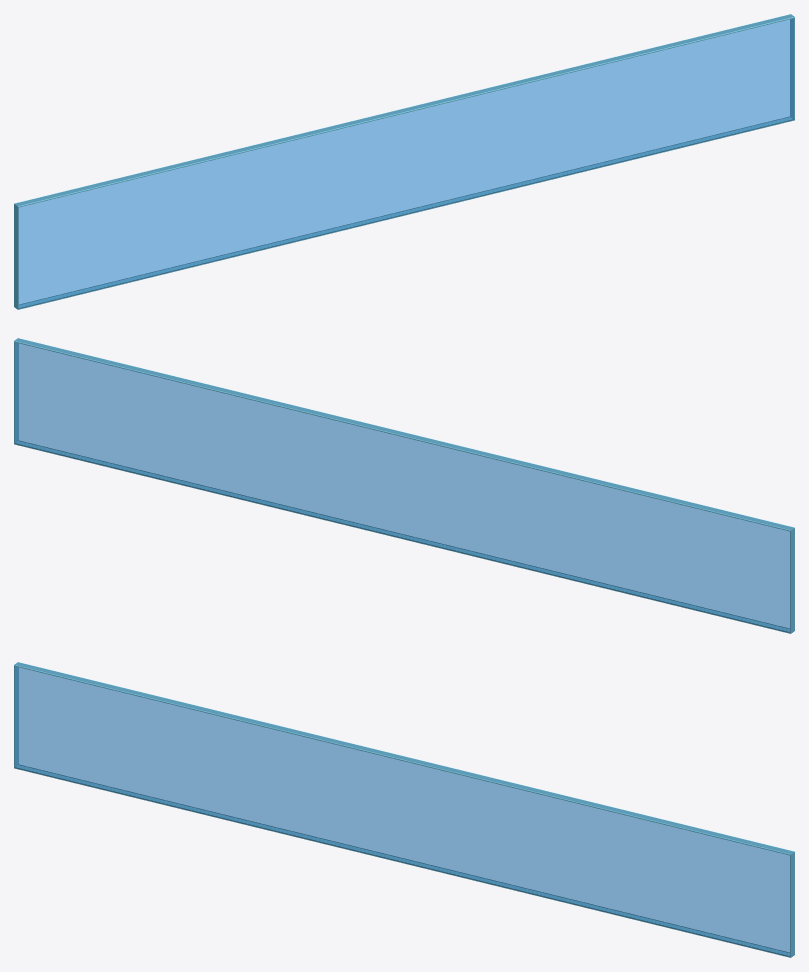
File: SM_VR_Wall_Outer_FrontB.fbx
3 renders of one model, top to bottom at view 1: azimuth 30°, elevation 25°; view 2: azimuth 150°, elevation 25°; view 3: azimuth 330°, elevation 25°, orthographic.
Parts seen in each view (by area): view 1: SM_VR_Wall_Outer_FrontB; view 2: SM_VR_Wall_Outer_FrontB; view 3: SM_VR_Wall_Outer_FrontB.
Part boxes in pixels (box(x1,y1,x2,y2)): SM_VR_Wall_Outer_FrontB: box(14, 14, 794, 309); SM_VR_Wall_Outer_FrontB: box(14, 338, 794, 633); SM_VR_Wall_Outer_FrontB: box(14, 662, 794, 957).
Size of the model in its own units: 2200 by 20 by 280.
